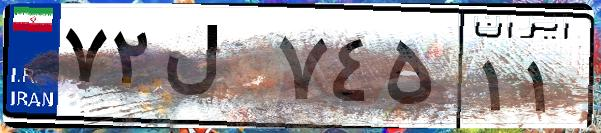1: (475, 38, 525, 113), (525, 38, 570, 115)
2: (110, 28, 158, 98)
4: (330, 28, 385, 110)
5: (385, 28, 445, 110)
7: (270, 28, 330, 110), (57, 26, 110, 100)
ل: (158, 20, 270, 120)
